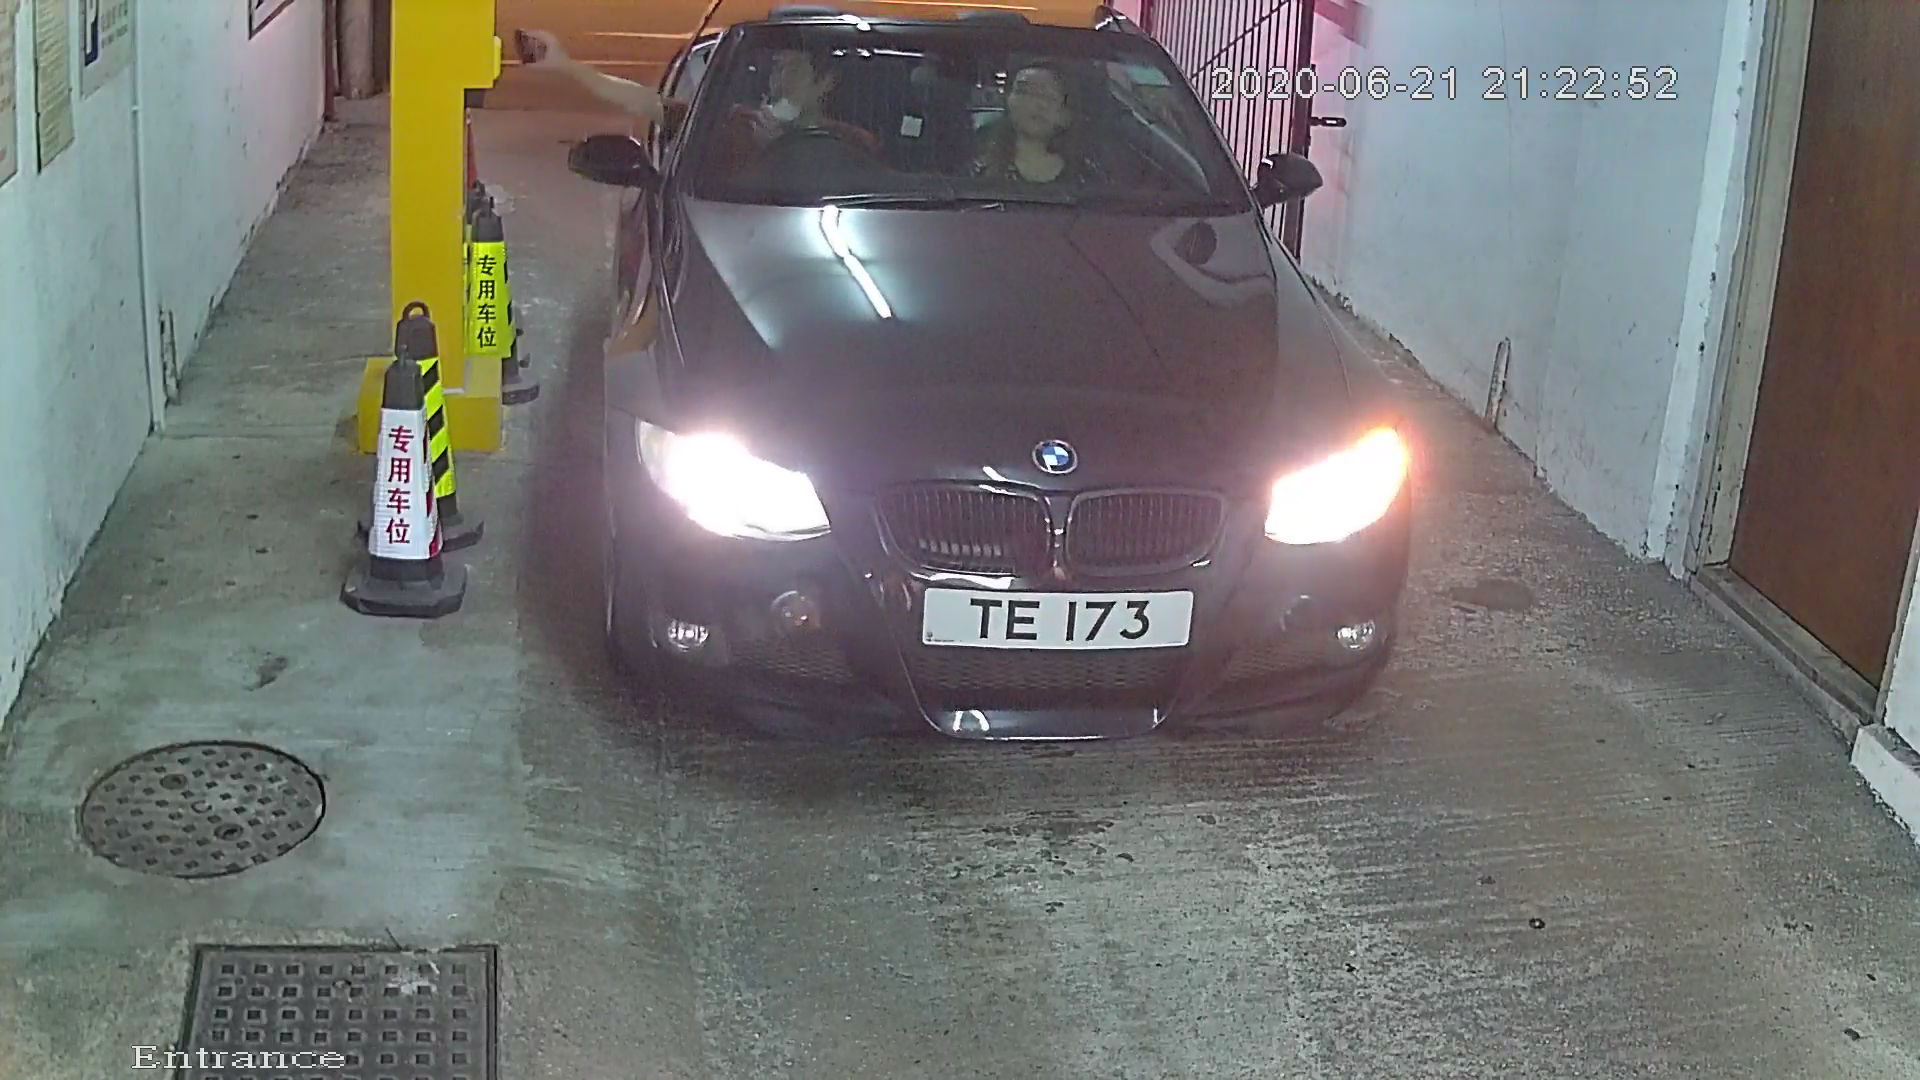privatecar: (517, 3, 1472, 840)
